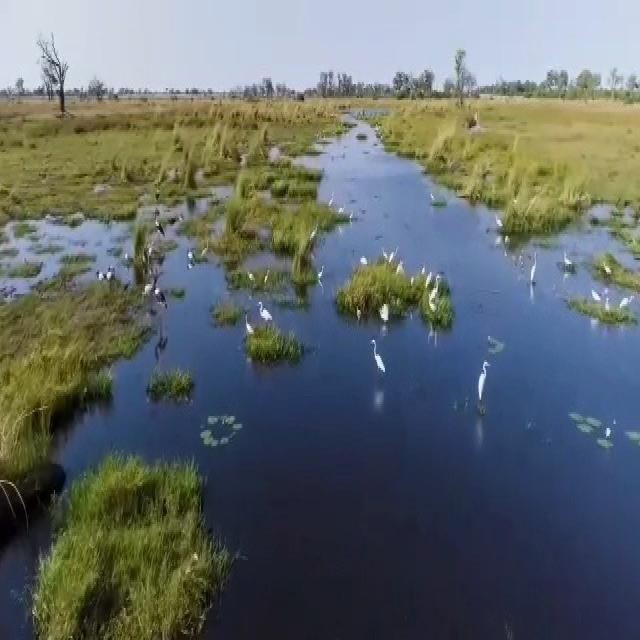Swan: (367, 332, 394, 389), (473, 350, 489, 424), (424, 266, 444, 316), (144, 276, 165, 312), (594, 290, 612, 327), (257, 300, 276, 333), (238, 316, 258, 347), (528, 249, 542, 293), (621, 290, 640, 322), (559, 243, 575, 279), (260, 257, 273, 294), (247, 268, 260, 296), (342, 202, 354, 231), (316, 259, 326, 288), (200, 233, 210, 261), (309, 222, 321, 244), (495, 212, 504, 240), (187, 247, 195, 268), (327, 190, 337, 205)
